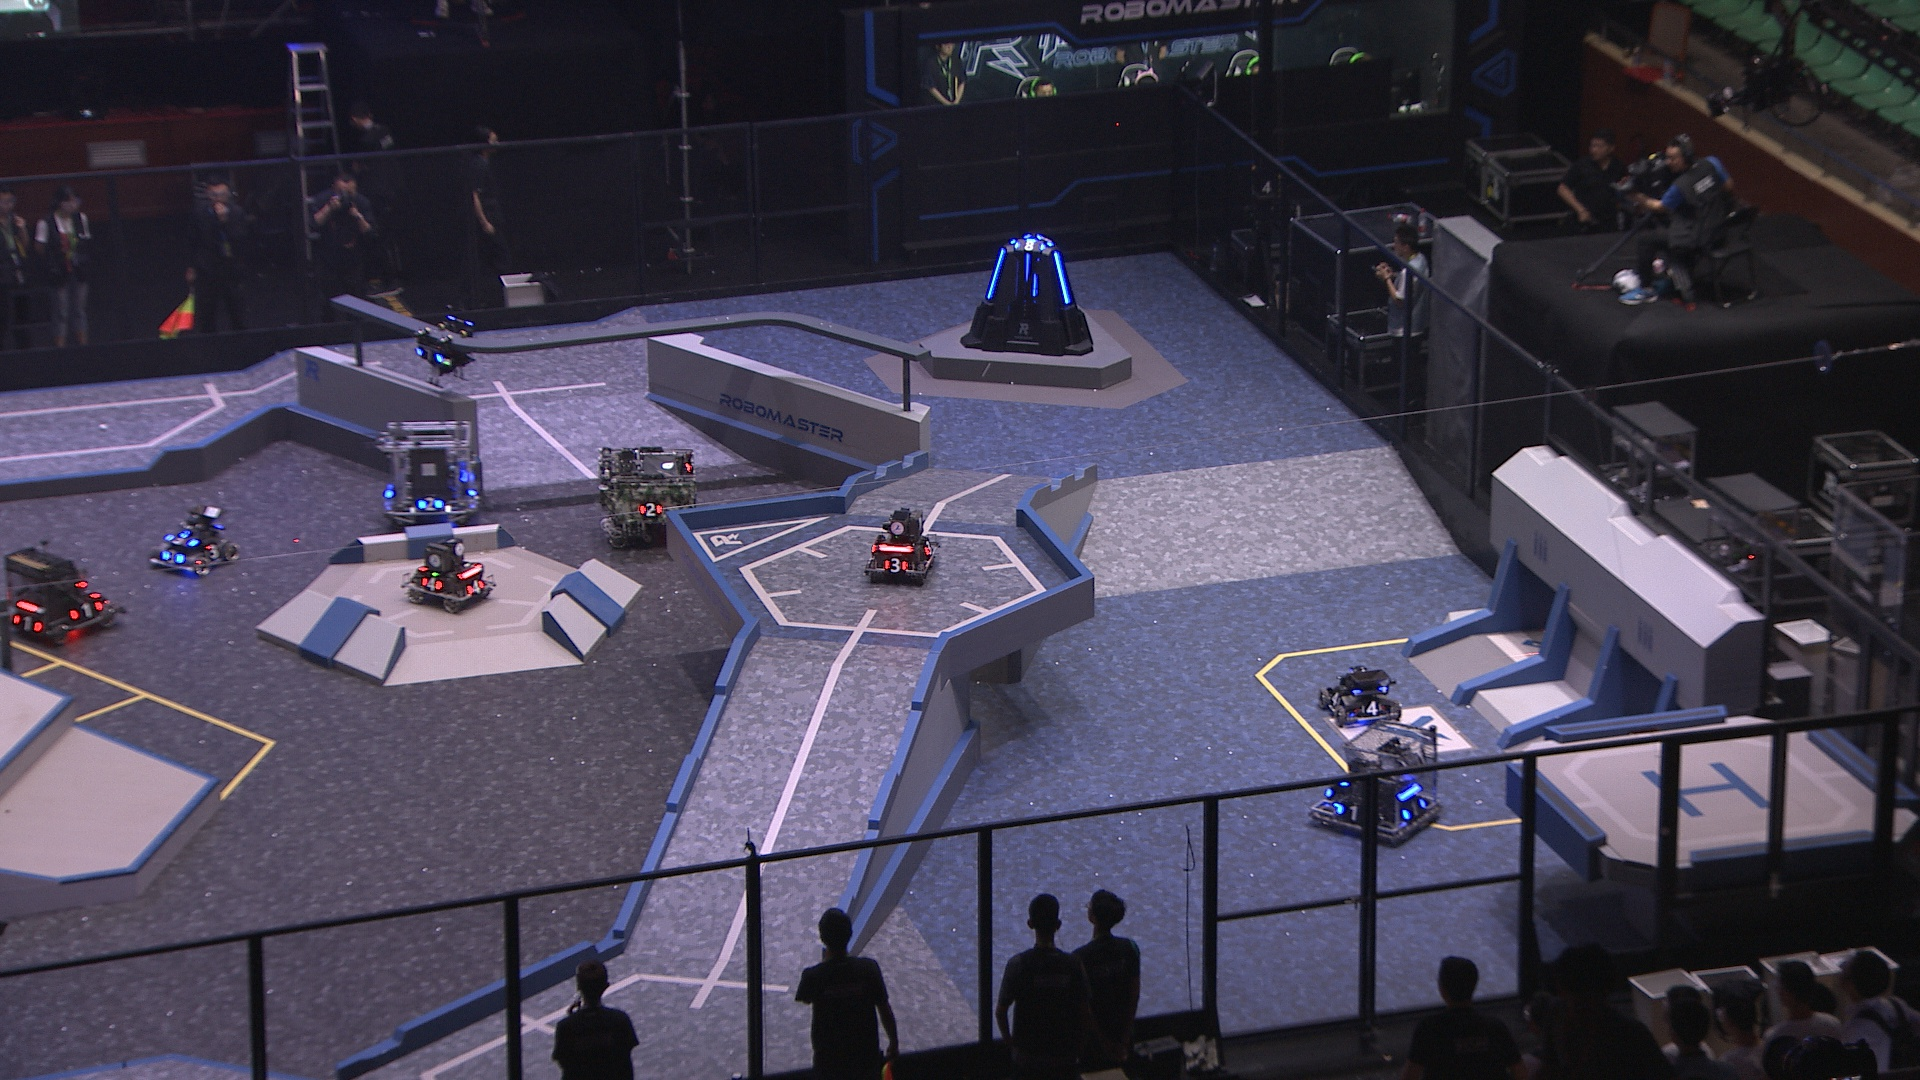armor: (982, 248, 1006, 301), (1054, 251, 1069, 309), (415, 342, 444, 368), (200, 537, 228, 560), (414, 495, 447, 514), (164, 531, 199, 549), (1400, 796, 1425, 820), (1338, 800, 1362, 825), (71, 603, 105, 618), (15, 612, 41, 632), (1013, 237, 1044, 252), (882, 556, 910, 572), (160, 547, 183, 564), (1358, 700, 1381, 717), (1327, 688, 1342, 712), (418, 578, 442, 593), (467, 576, 487, 595), (638, 501, 659, 518), (1025, 253, 1034, 285), (924, 541, 935, 556)
base: (959, 233, 1097, 353)
car: (1313, 725, 1443, 847), (373, 419, 484, 529), (591, 446, 698, 551), (401, 537, 495, 617), (148, 506, 243, 579), (864, 508, 939, 585), (1317, 659, 1403, 725)
watcher: (411, 313, 477, 378)
